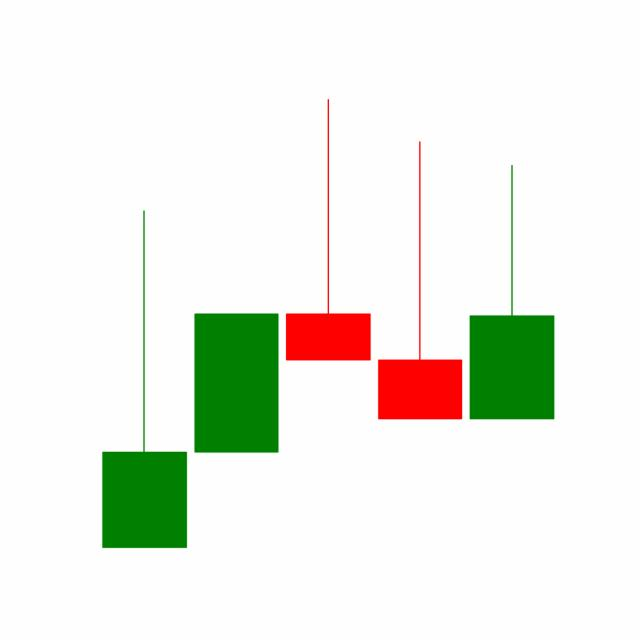Gravestone Doji: (373, 138, 467, 421)
